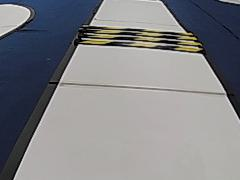bump: (71, 21, 204, 56)
